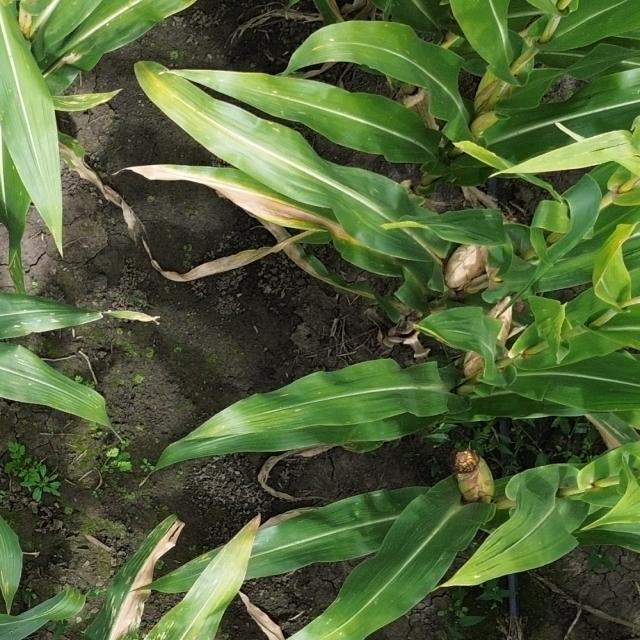gray-leaf-spot: (191, 534, 278, 570), (268, 386, 338, 427), (90, 569, 126, 640), (0, 550, 31, 602), (149, 608, 189, 639), (57, 92, 101, 110)
northern-leaf-blight: (226, 176, 349, 237), (45, 44, 87, 86), (14, 2, 58, 39)
southern-leaf-blight: (215, 73, 310, 118), (7, 300, 86, 336), (594, 355, 639, 415), (6, 349, 60, 390), (342, 494, 406, 520)
